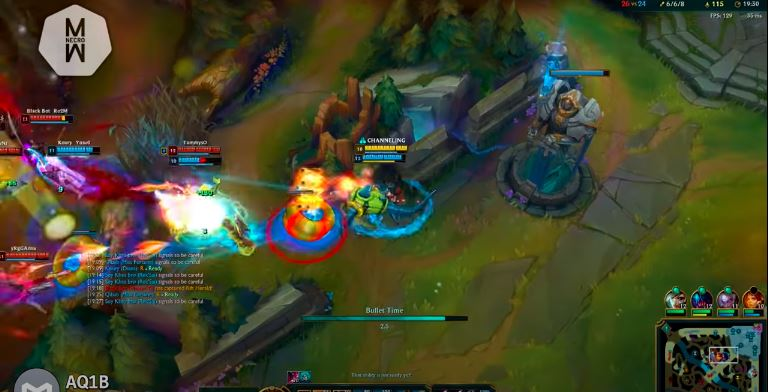bar: (19, 111, 78, 127), (45, 142, 104, 158), (165, 142, 224, 157), (1, 248, 53, 265), (354, 140, 410, 154), (168, 155, 226, 168), (352, 152, 409, 165), (1, 152, 26, 158)
